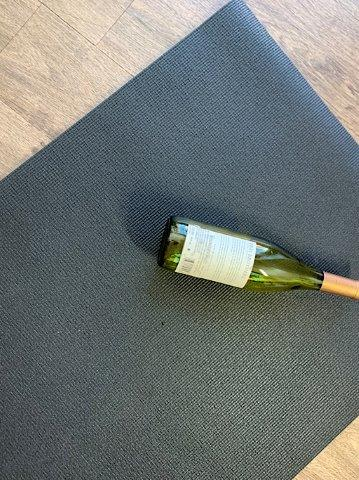botolkaca: (157, 216, 359, 302)
